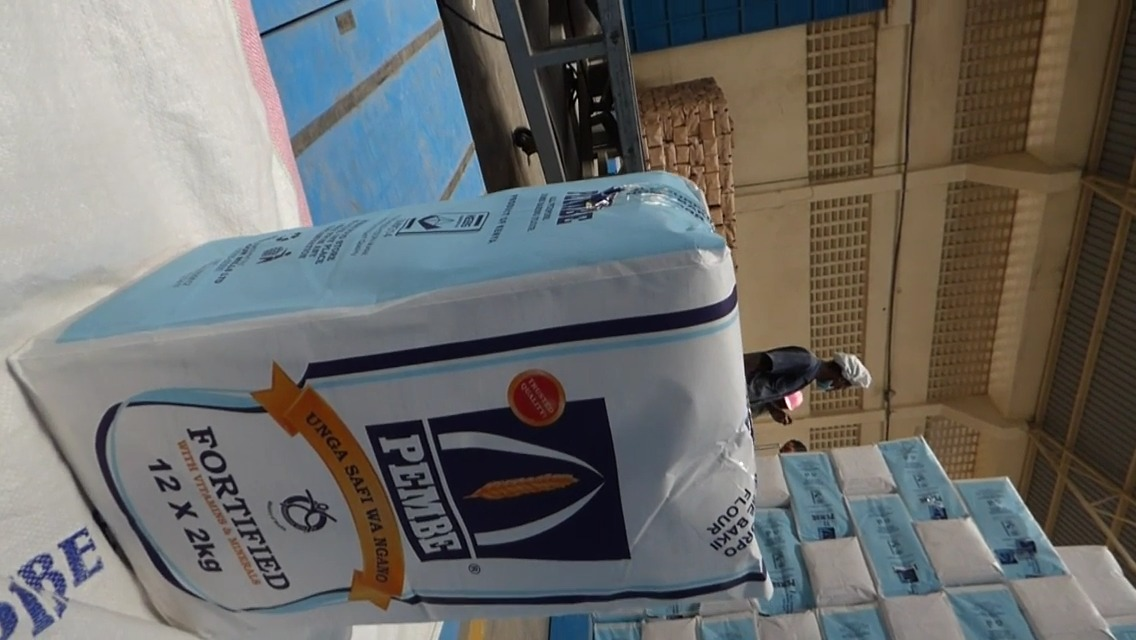wheat_flour_blue_label: (11, 172, 716, 640)
